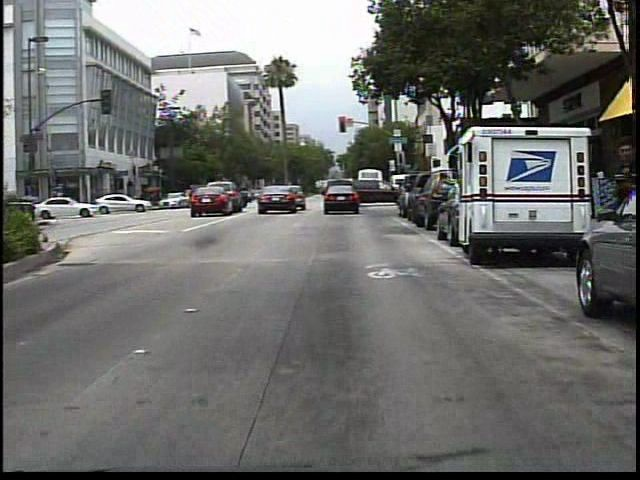person: (602, 139, 639, 279)
